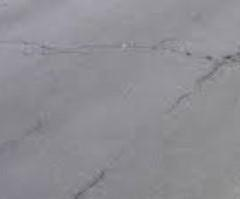pothole: (2, 32, 240, 69)
